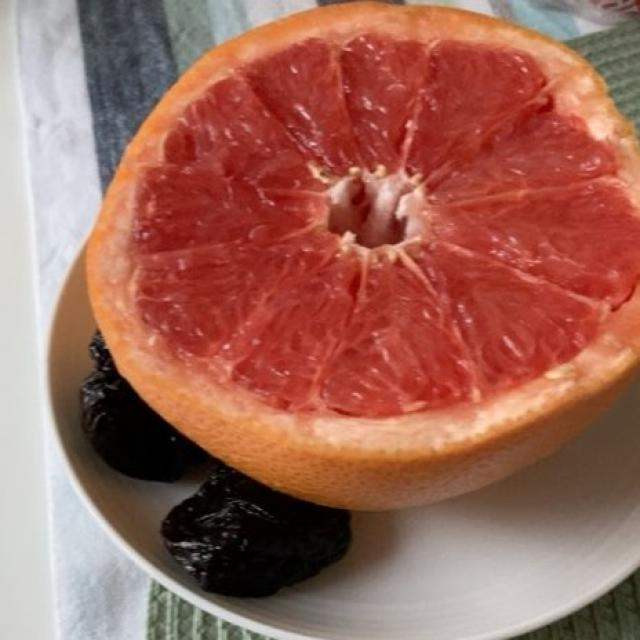dates: (84, 334, 343, 621)
grapefruit-pomelo: (94, 15, 633, 502)
